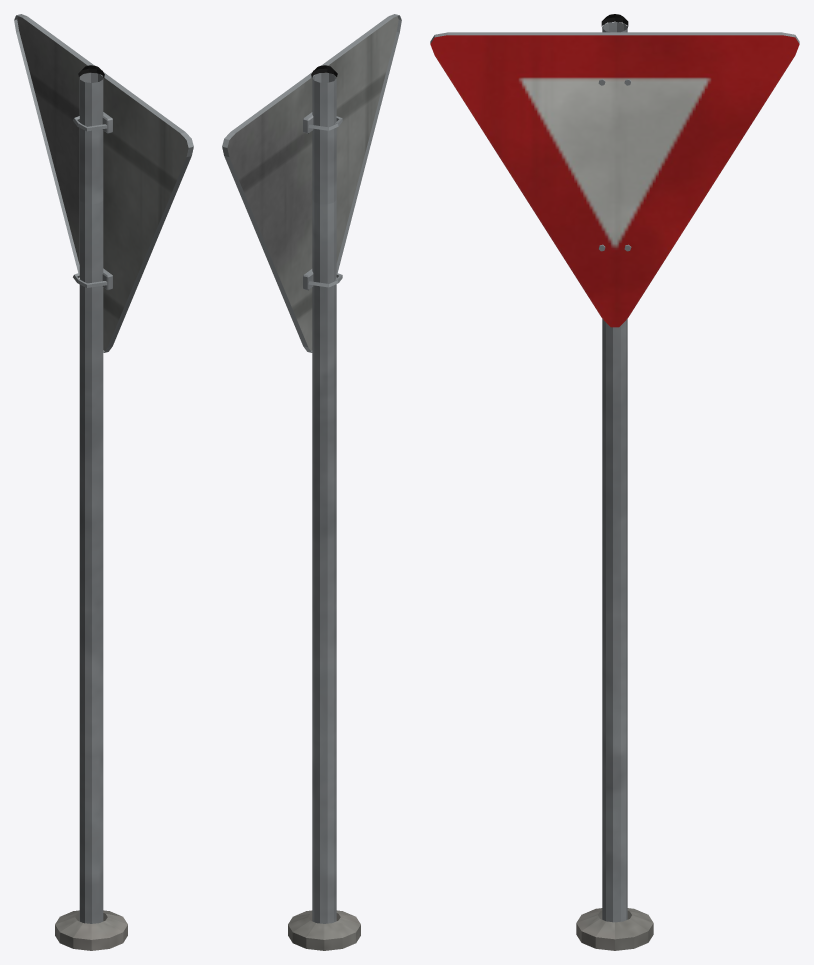
Rendered from sg_yield.glb.
The picture shows the model from 3 angles, left to right: view 1: azimuth 30°, elevation 25°; view 2: azimuth 150°, elevation 25°; view 3: azimuth 270°, elevation 25°; orthographic projection. The views are drawn at different scales.
Visible parts, largest first — view 1: sg_yield; view 2: sg_yield; view 3: sg_yield.
Part boxes in pixels (x1,y1,x2,y2): sg_yield: [14, 14, 193, 950]; sg_yield: [222, 14, 401, 950]; sg_yield: [430, 14, 799, 950].
Bounding box in the file's own units: 0.18 × 2.36 × 0.8596.
Materials: 1 (1 with a texture image).
